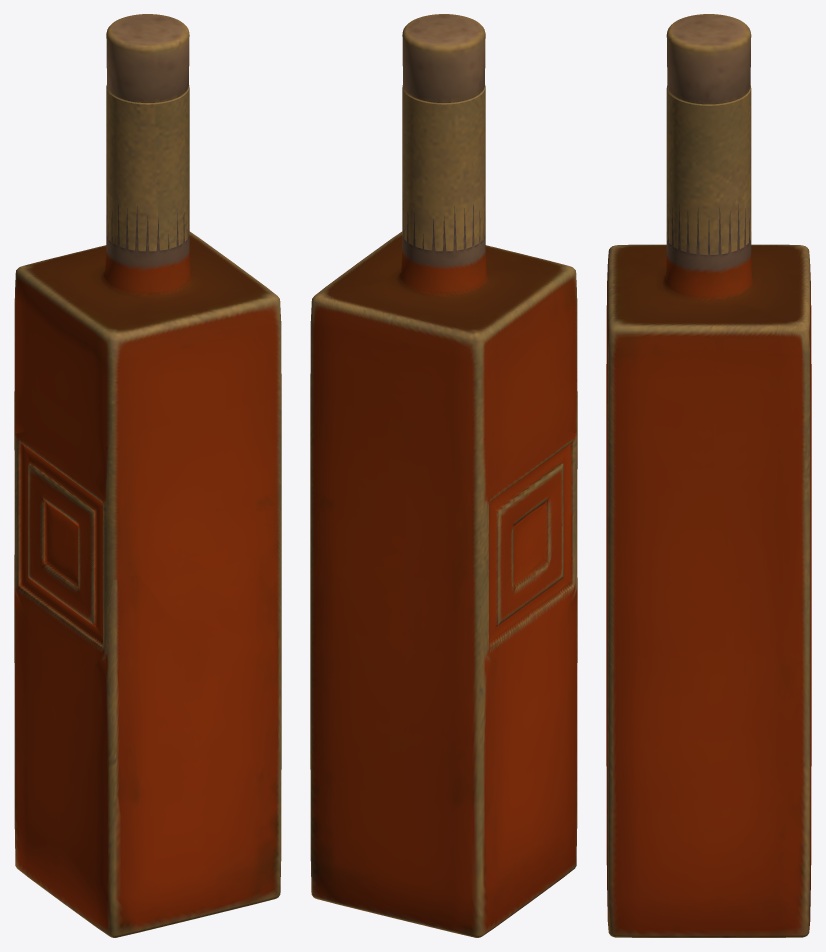
File: SM_Bottle4.fbx
3 renders of one model, left to right at view 1: azimuth 30°, elevation 25°; view 2: azimuth 150°, elevation 25°; view 3: azimuth 270°, elevation 25°, orthographic.
Parts seen in each view (by area): view 1: SM_Bottle4_LOD0; view 2: SM_Bottle4_LOD0; view 3: SM_Bottle4_LOD0.
Part boxes in pixels (x1,y1,x2,y2): SM_Bottle4_LOD0: (14, 14, 281, 937); SM_Bottle4_LOD0: (310, 14, 577, 937); SM_Bottle4_LOD0: (606, 14, 811, 937).
Size of the model in its own units: 9.53 by 9.53 by 44.47.
Materials: 1 (1 with a texture image).
